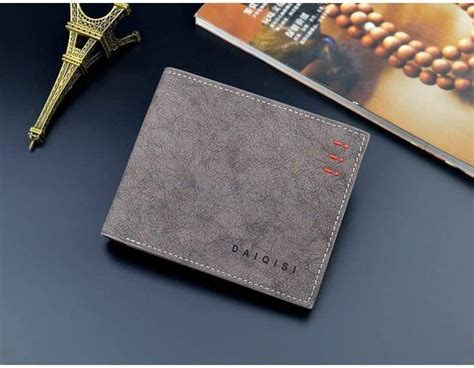gamuza: (98, 68, 372, 314)
